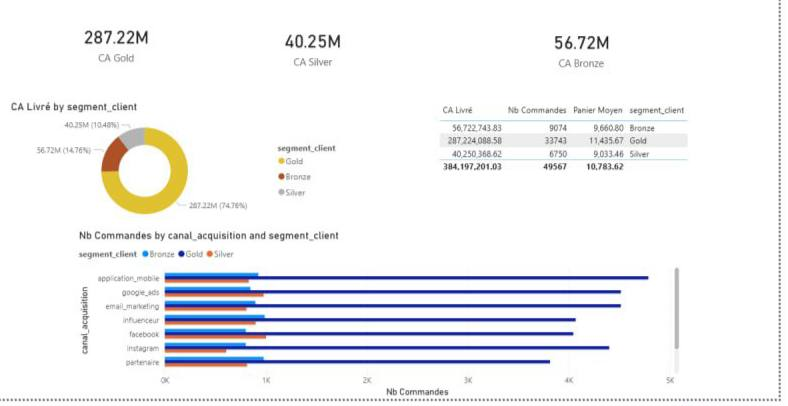

The page's visual inventory and layout, read from the dashboard file:
{"tool":"powerbi","page":{"name":"Segments Clients","canvas":[1280,720],"ordinal":2},"visuals":[{"type":"textbox","box":[434.3,0,640.9,89.5],"z":0},{"type":"donutChart","fields":{"Category":["DIM_CLIENT.segment_client"],"Y":["FAIT_VENTES.CA Livré"]},"box":[26,234.2,554.7,209.8],"z":1000},{"type":"tableEx","fields":{"Values":["FAIT_VENTES.CA Livré","FAIT_VENTES.Nb Commandes","FAIT_VENTES.Panier Moyen","DIM_CLIENT.segment_client"]},"box":[722.2,234.2,538.4,209.8],"z":2000},{"type":"card","fields":{"Values":["FAIT_VENTES.CA Gold"]},"box":[26,71.6,351.3,136.6],"z":3000},{"type":"card","fields":{"Values":["FAIT_VENTES.CA Silver"]},"box":[377.4,71.6,287.9,151.3],"z":4000},{"type":"card","fields":{"Values":["FAIT_VENTES.CA Bronze"]},"box":[793.8,89.5,328.6,118.7],"z":5000},{"type":"clusteredBarChart","fields":{"Category":["DIM_CLIENT.canal_acquisition"],"Series":["DIM_CLIENT.segment_client"],"Y":["FAIT_VENTES.Nb Commandes"]},"box":[136.6,444,985.7,276.5],"z":6000}]}

Visuals, with their boxes on the page's 1280x720 design canvas (x1, y1, x2, y2). These are canvas units, not pixel positions in the 788x406 screenshot, which may show the page scaled, cropped or inside an application window:
textbox: x1=434 y1=0 x2=1075 y2=90
donutChart - DIM_CLIENT.segment_client x FAIT_VENTES.CA Livré: x1=26 y1=234 x2=581 y2=444
tableEx - FAIT_VENTES.CA Livré x FAIT_VENTES.Nb Commandes: x1=722 y1=234 x2=1261 y2=444
card - FAIT_VENTES.CA Gold: x1=26 y1=72 x2=377 y2=208
card - FAIT_VENTES.CA Silver: x1=377 y1=72 x2=665 y2=223
card - FAIT_VENTES.CA Bronze: x1=794 y1=90 x2=1122 y2=208
clusteredBarChart - DIM_CLIENT.canal_acquisition x DIM_CLIENT.segment_client: x1=137 y1=444 x2=1122 y2=720
